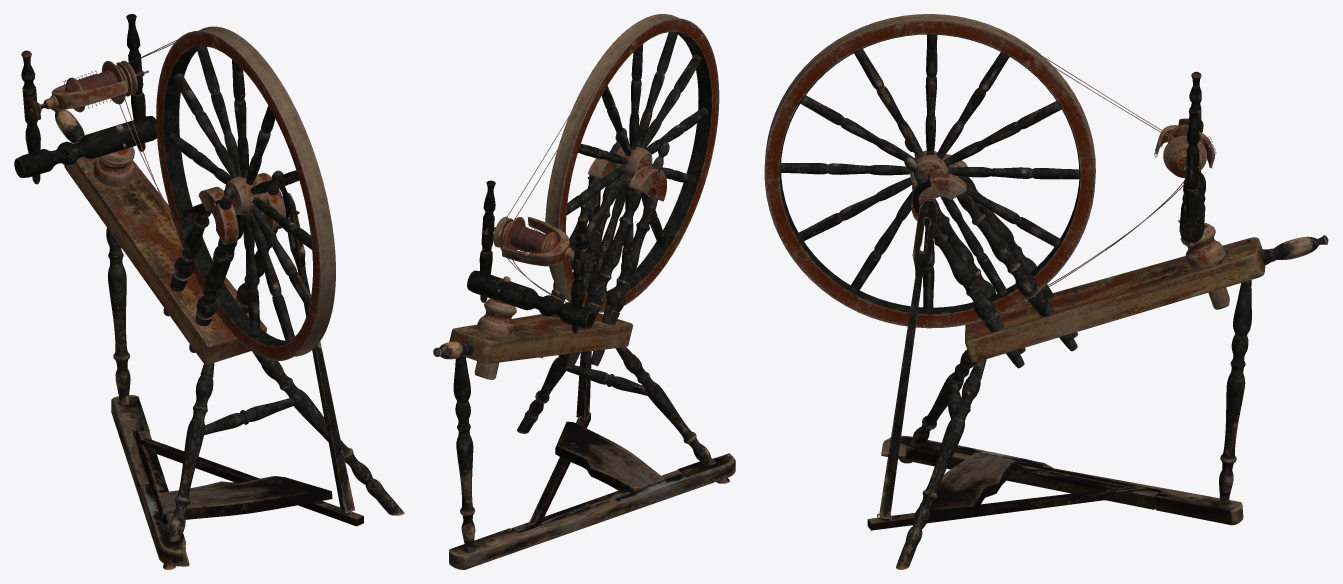
The model's file is rueca.glb.
3 renders of one model, left to right at view 1: azimuth 30°, elevation 25°; view 2: azimuth 150°, elevation 25°; view 3: azimuth 270°, elevation 25°, orthographic. The views are drawn at different scales.
Visible parts, largest first — view 1: spinning_wheel_01; view 2: spinning_wheel_01; view 3: spinning_wheel_01.
Boxes of the visible parts, box(x1,y1,x2,y2) form: spinning_wheel_01: box(14, 14, 404, 569); spinning_wheel_01: box(433, 14, 735, 569); spinning_wheel_01: box(764, 14, 1328, 569).
Bounding box in the file's own units: 0.4893 × 0.9662 × 1.02.
1 material, 1 textured.
